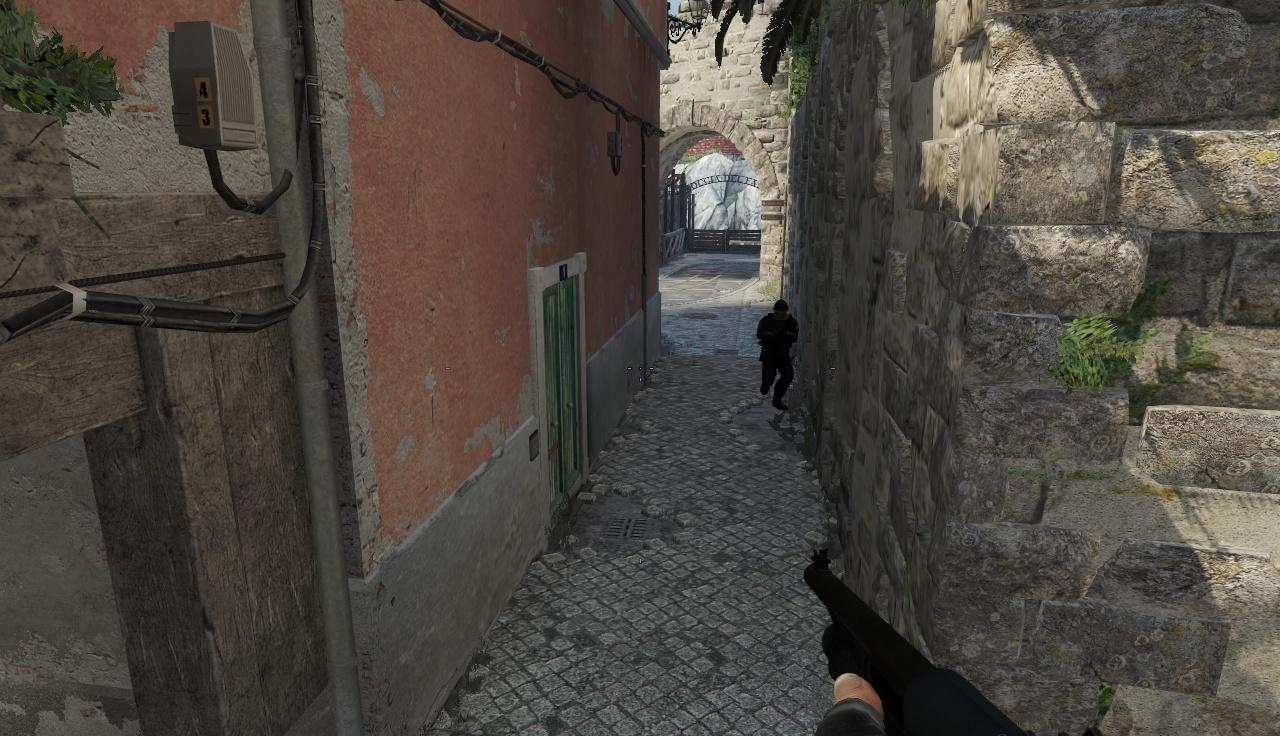ct: (755, 299, 800, 411)
cthead: (772, 299, 790, 321)
shotgun: (794, 540, 1040, 736)
